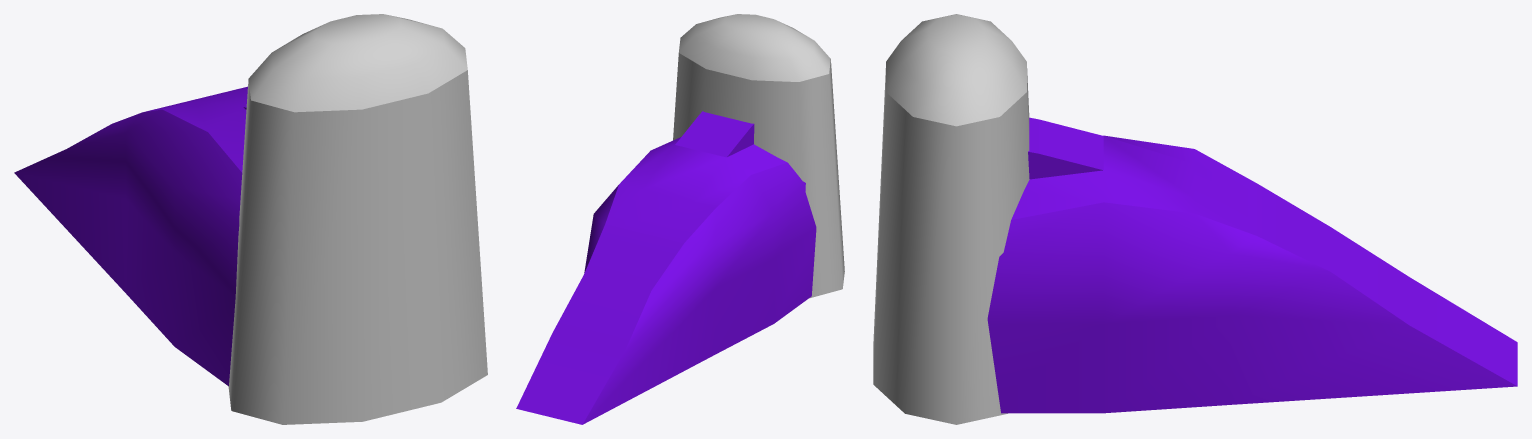
File: Nitro Cabin.FBX
3 renders of one model, left to right at view 1: azimuth 30°, elevation 25°; view 2: azimuth 150°, elevation 25°; view 3: azimuth 270°, elevation 25°, orthographic. The views are drawn at different scales.
Parts seen in each view (by area): view 1: Nitro cabin reservoir, Nitro cabin; view 2: Nitro cabin, Nitro cabin reservoir; view 3: Nitro cabin, Nitro cabin reservoir.
Part boxes in pixels (x1,y1,x2,y2): Nitro cabin reservoir: (228, 14, 487, 424); Nitro cabin: (14, 86, 247, 386); Nitro cabin: (516, 111, 816, 424); Nitro cabin reservoir: (673, 14, 844, 298); Nitro cabin: (987, 117, 1517, 413); Nitro cabin reservoir: (873, 14, 1029, 424).
Bounding box in the file's own units: 6.33 × 8.38 × 14.72.
